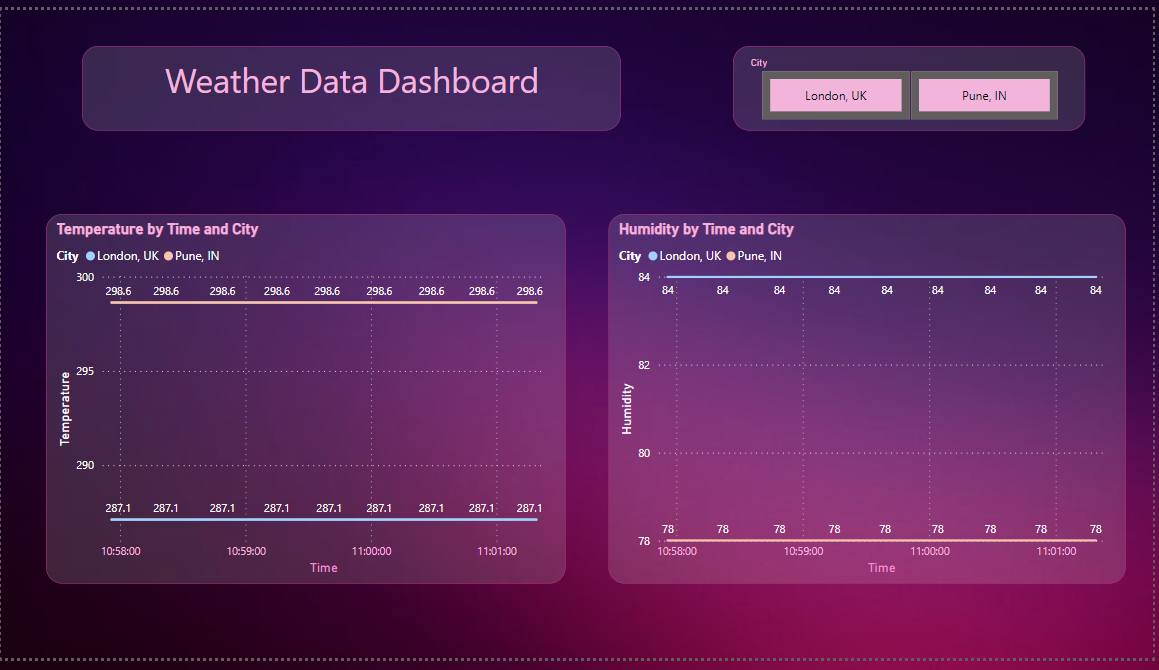

The page's visual inventory and layout, read from the dashboard file:
{"tool":"powerbi","page":{"name":"Page 1","canvas":[1280,720],"ordinal":0},"visuals":[{"type":"lineChart","title":"Temperature  by Time and City","fields":{"Category":["weather.Time"],"Y":["Max(weather.Temperature (�C))"],"Series":["weather.City"]},"box":[50.2,226.5,577.6,411],"z":0},{"type":"lineChart","title":"Humidity  by Time and City","fields":{"Category":["weather.Time"],"Y":["Sum(weather.Humidity (%))"],"Series":["weather.City"]},"box":[674.7,226.5,574.4,411],"z":1000},{"type":"slicer","fields":{"Values":["weather.City"]},"box":[813.8,40.4,391.6,93.8],"z":2000},{"type":"textbox","box":[90.6,40.4,598.7,93.8],"z":2001}]}

Visuals, with their boxes in screenshot pixels (x1, y1, x2, y2), scaled from the page's 1280x720 canvas onto the 1159x670 screenshot:
"Temperature  by Time and City" lineChart: <bbox>45, 211, 568, 593</bbox>
"Humidity  by Time and City" lineChart: <bbox>611, 211, 1131, 593</bbox>
slicer - weather.City: <bbox>737, 38, 1091, 125</bbox>
textbox: <bbox>82, 38, 624, 125</bbox>
